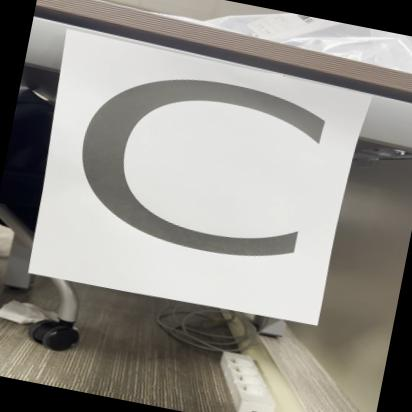seat: (27, 33, 366, 326)
